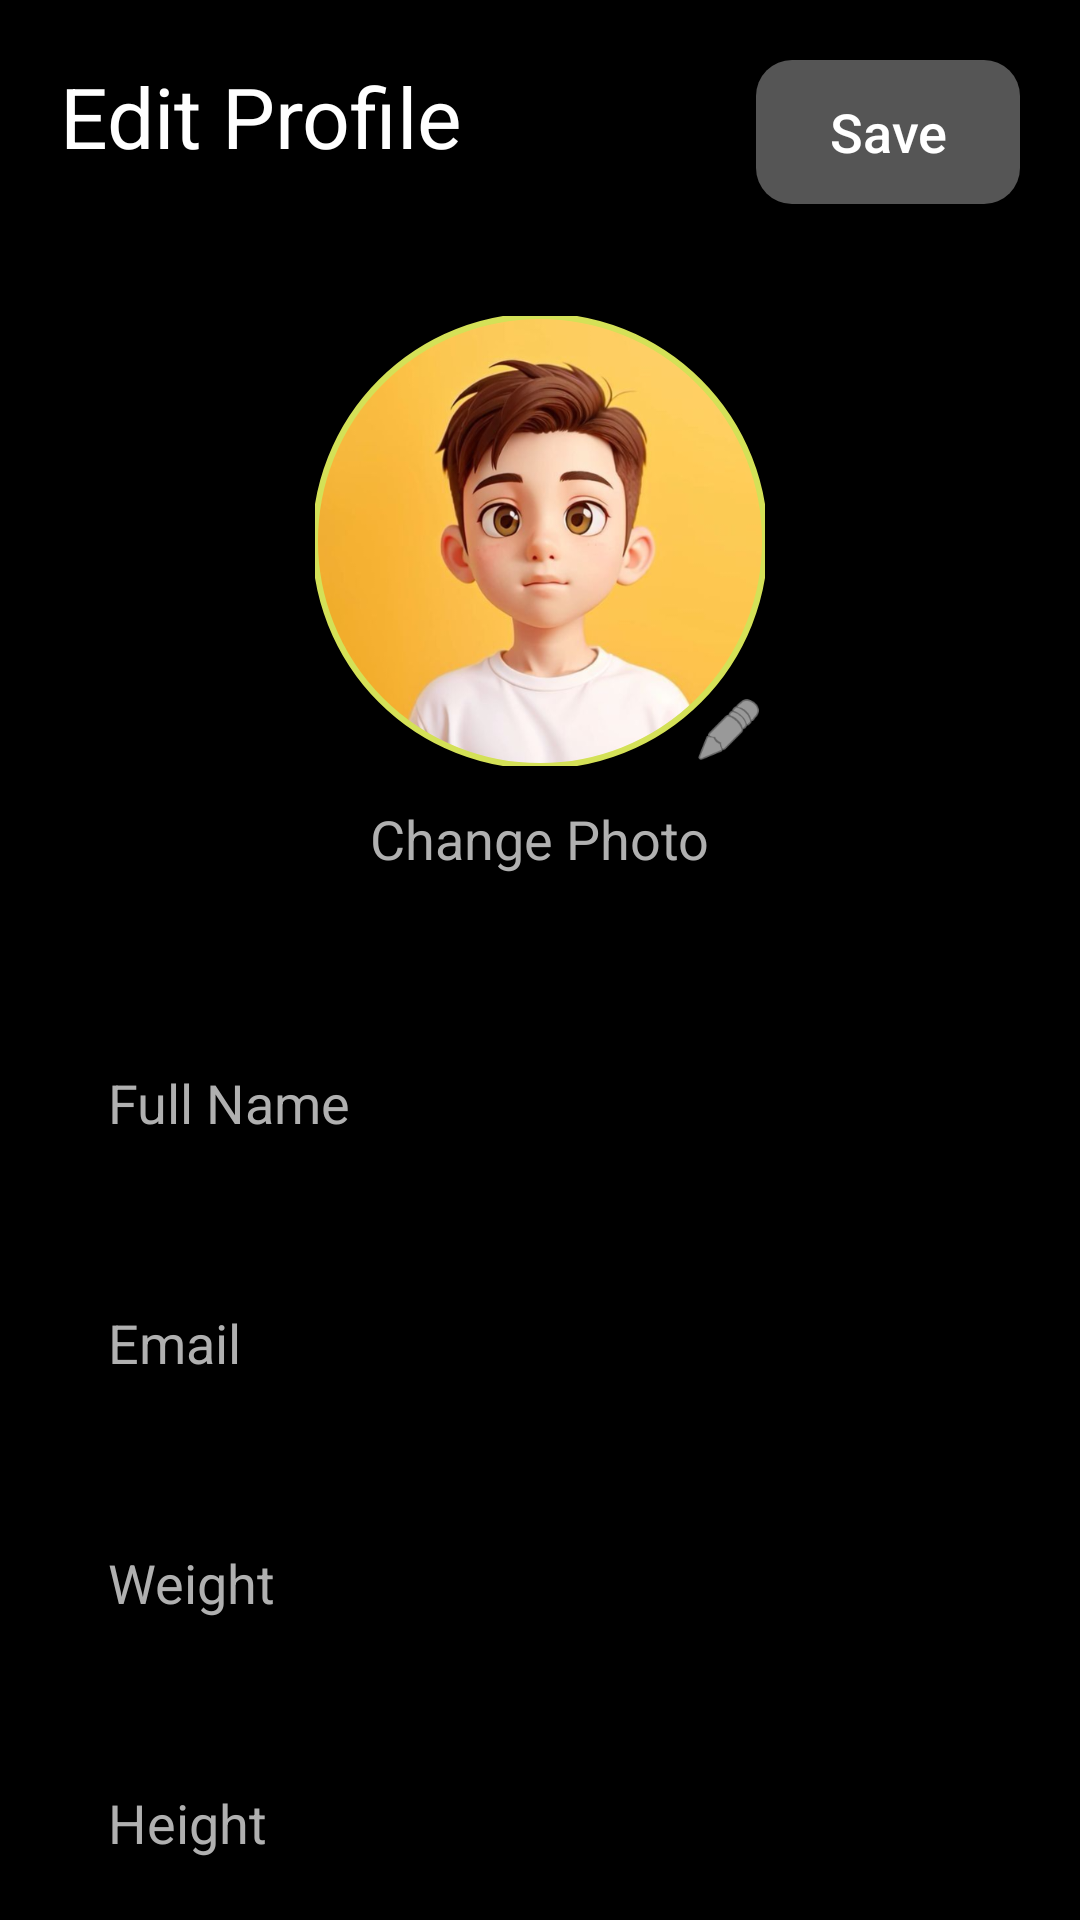

Where icons sit on this 1080*1920 app screen, as rect(x1, y1, x2, y2):
edit: rect(698, 699, 759, 760)
